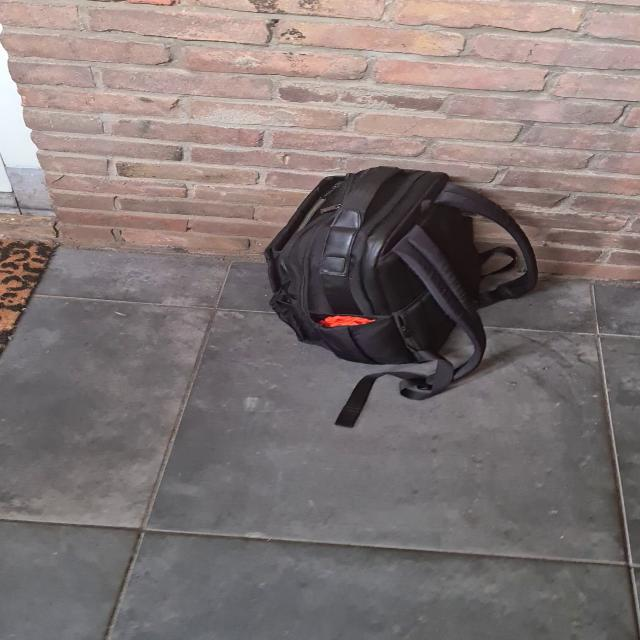backpack: (256, 159, 544, 400)
